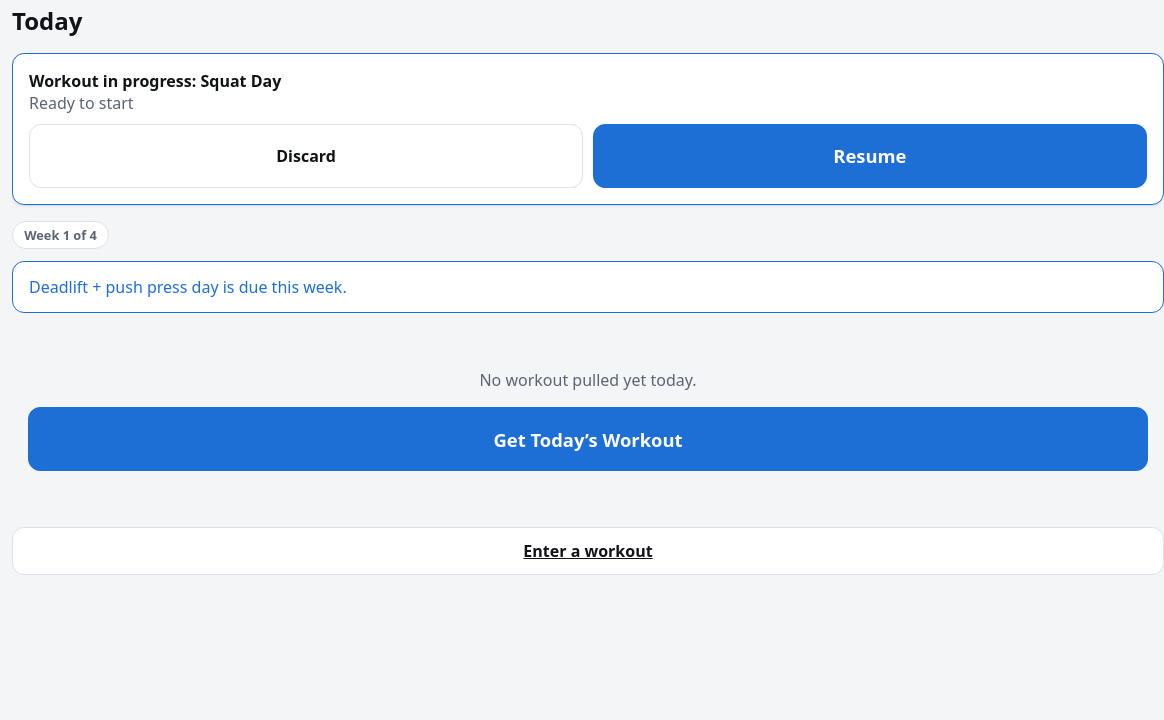
Today page — in-progress run card › Discard confirms, then clears the session and removes the card
Click the button "Discard" at point(306, 156), box [29,124,583,188]
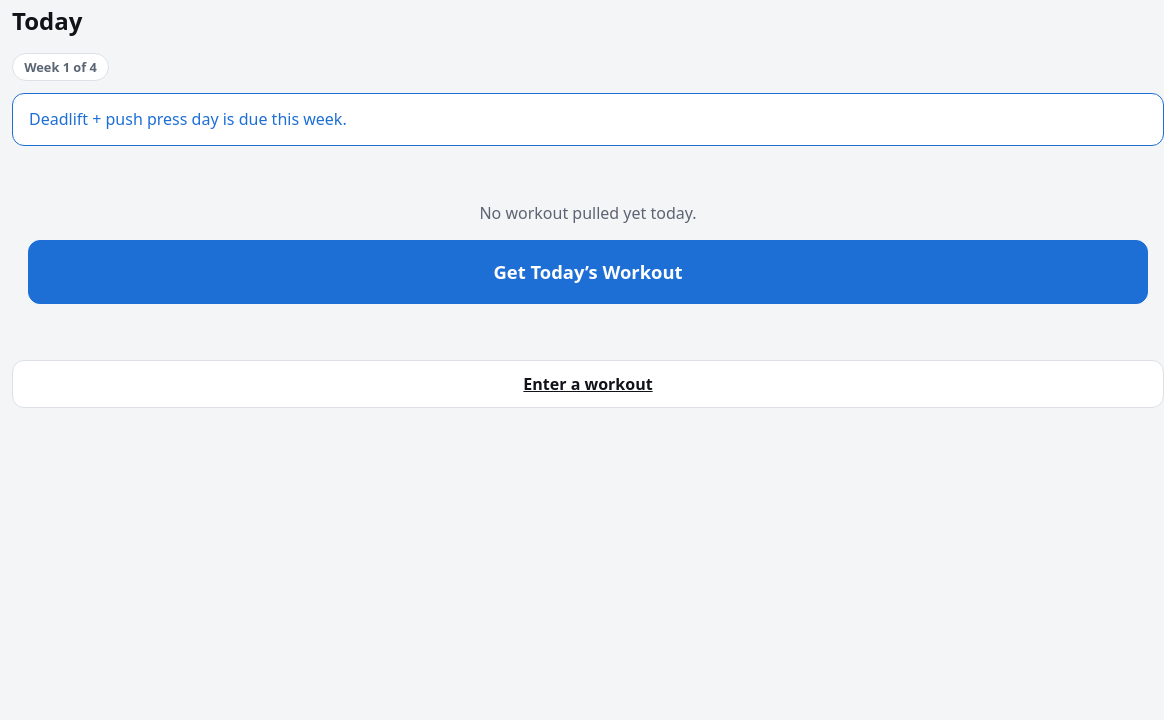
Expected: the text "Workout in progress" is gone
